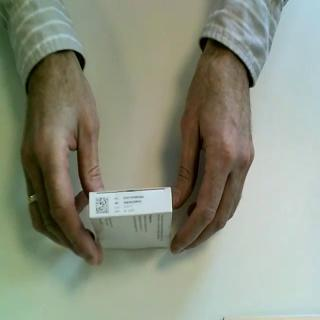dolcontin10mg: (88, 185, 175, 251)
